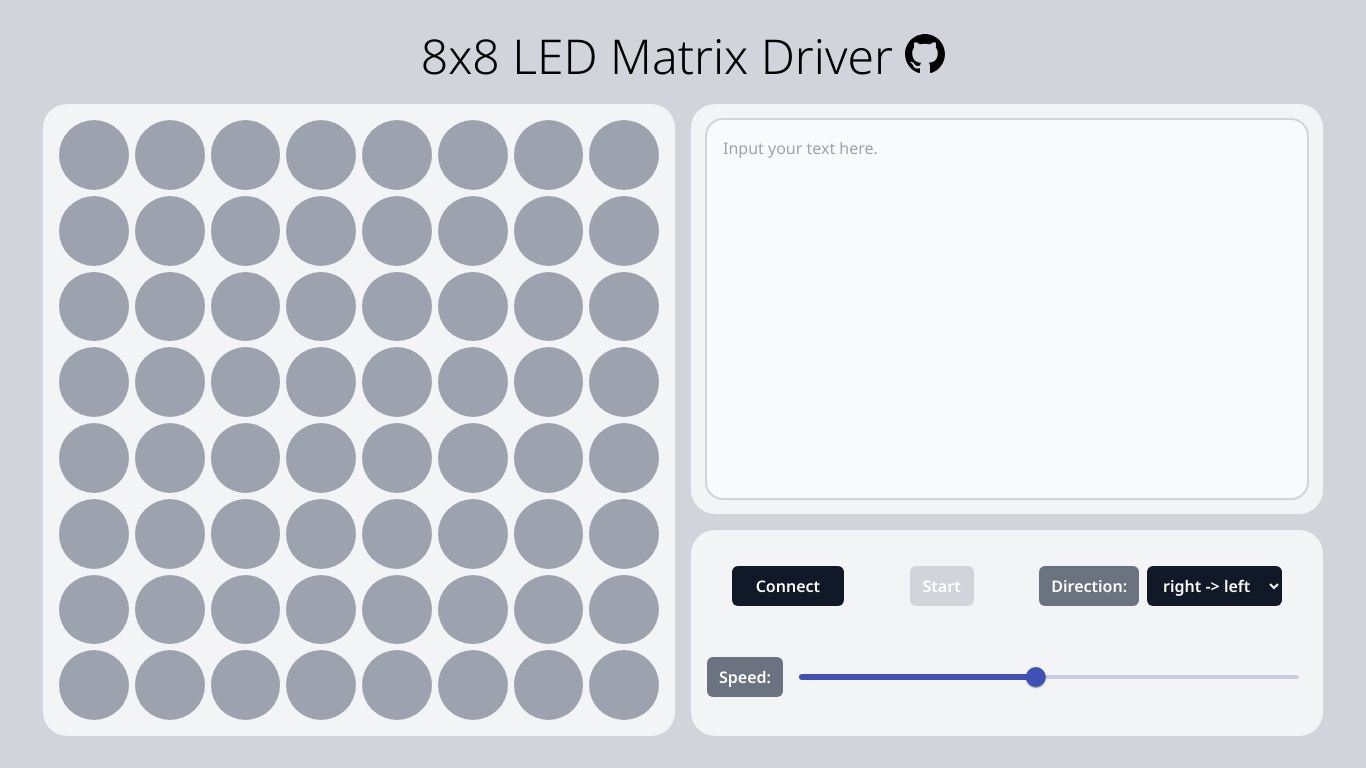
Test: LED-MATRIX › Stops printing
The image size is (1366, 768).
# Start printing
Click the button "Connect" at point(788, 586), box [732,566,844,606]
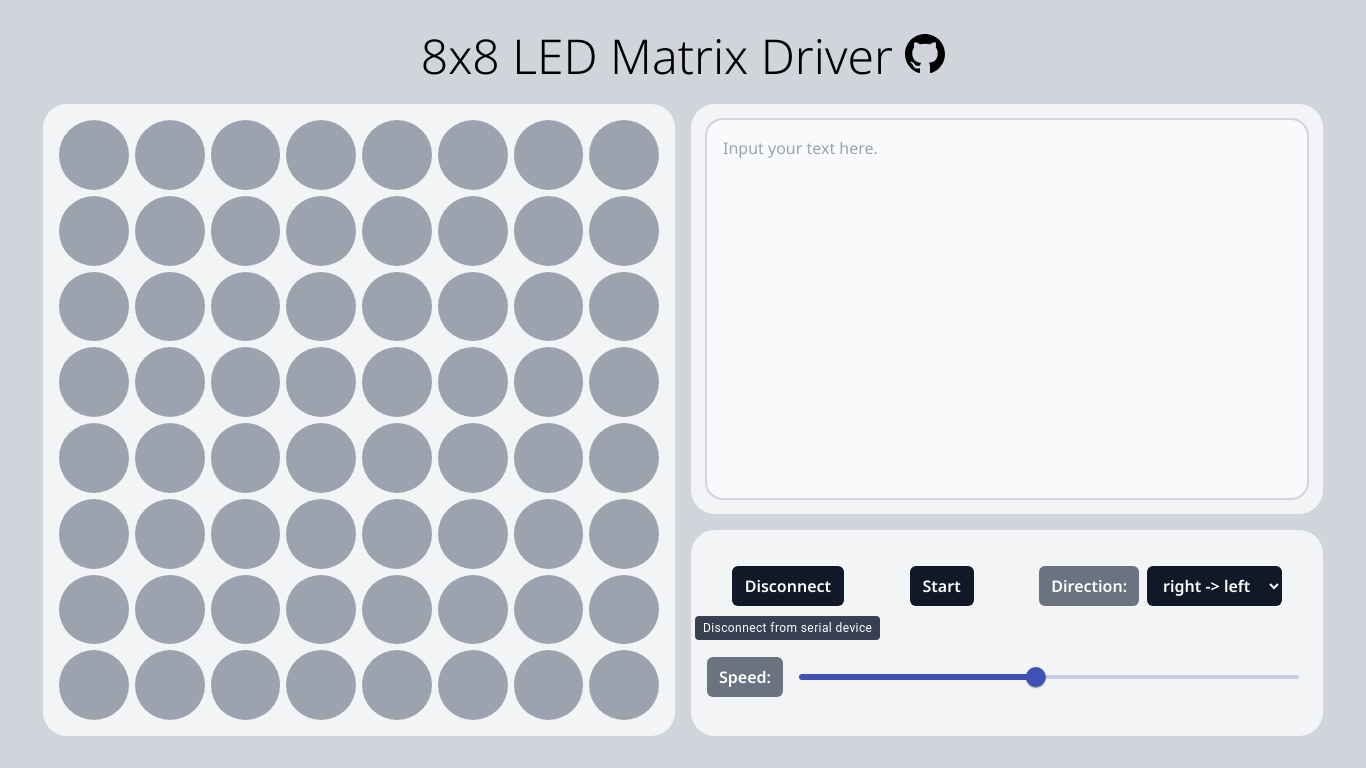
Type "text" into the text box with placeholder "Input your text here." at point(1007, 309), box [707,120,1307,498]
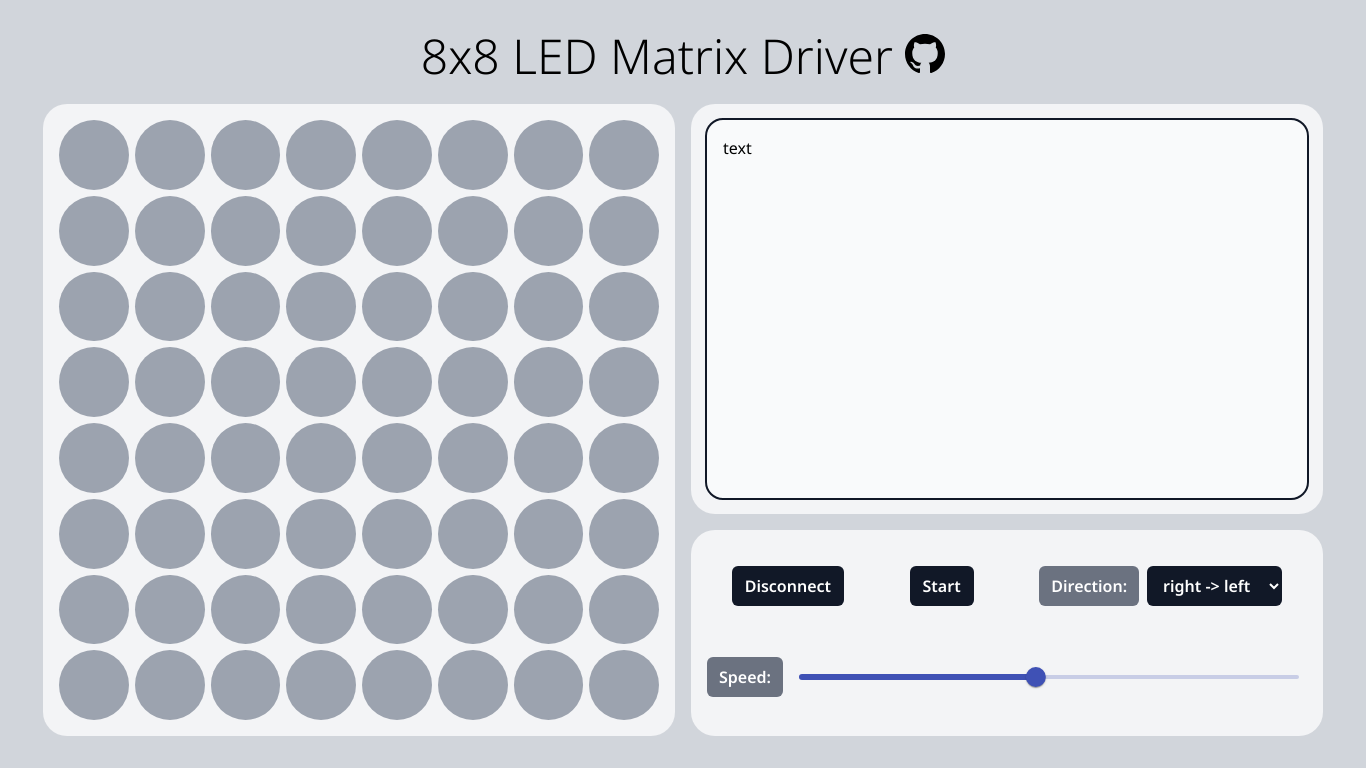
Click the button "Start" at point(942, 586), box [910,566,974,606]
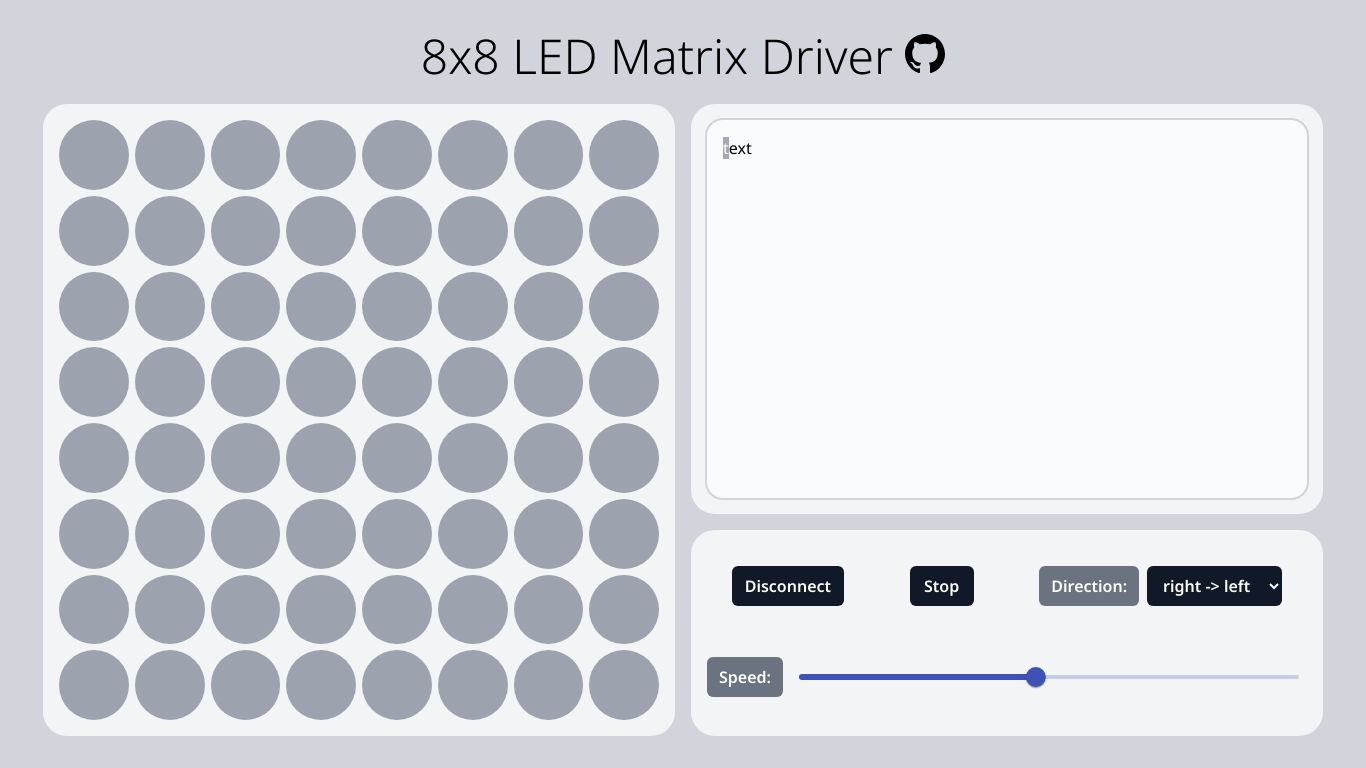
# Stop printing
Click the button "Stop" at point(942, 586), box [910,566,974,606]
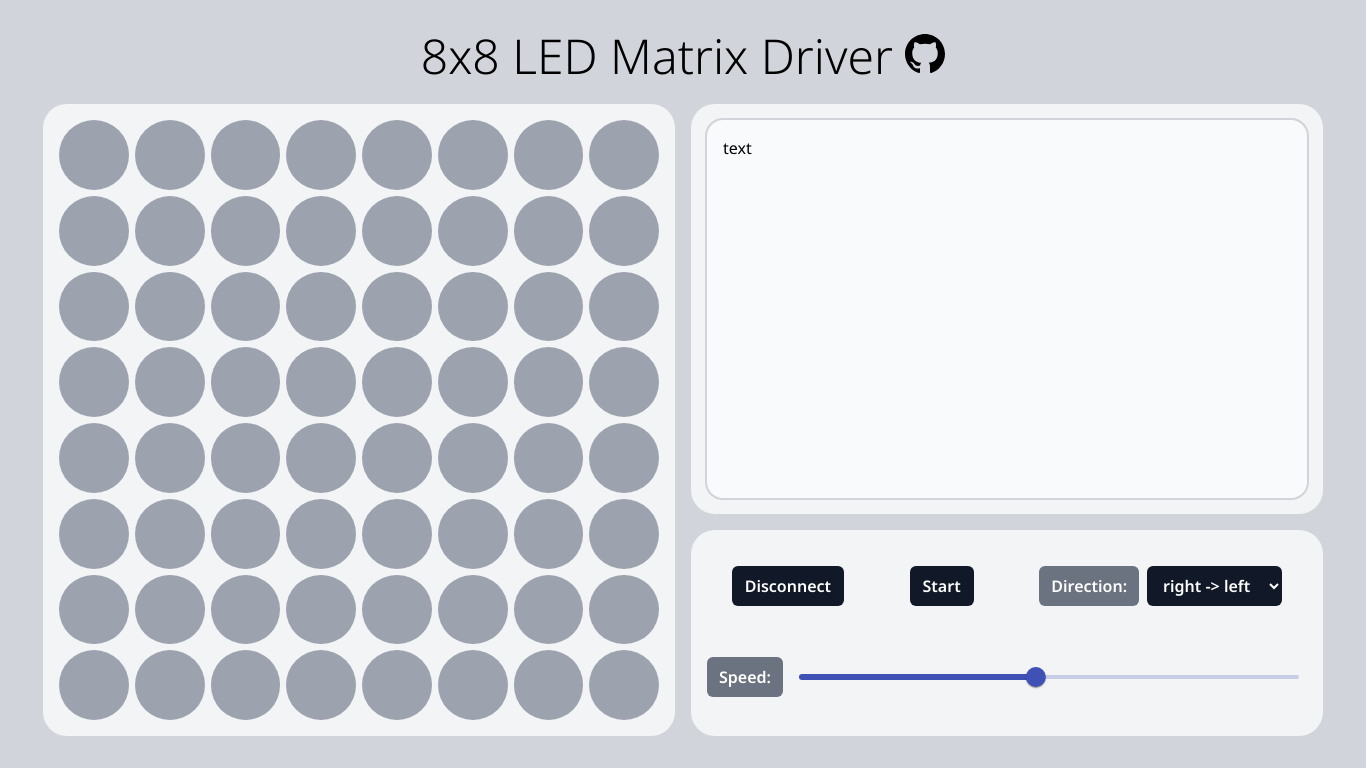
Result: the button "Start" is shown at [910,566,974,606]
